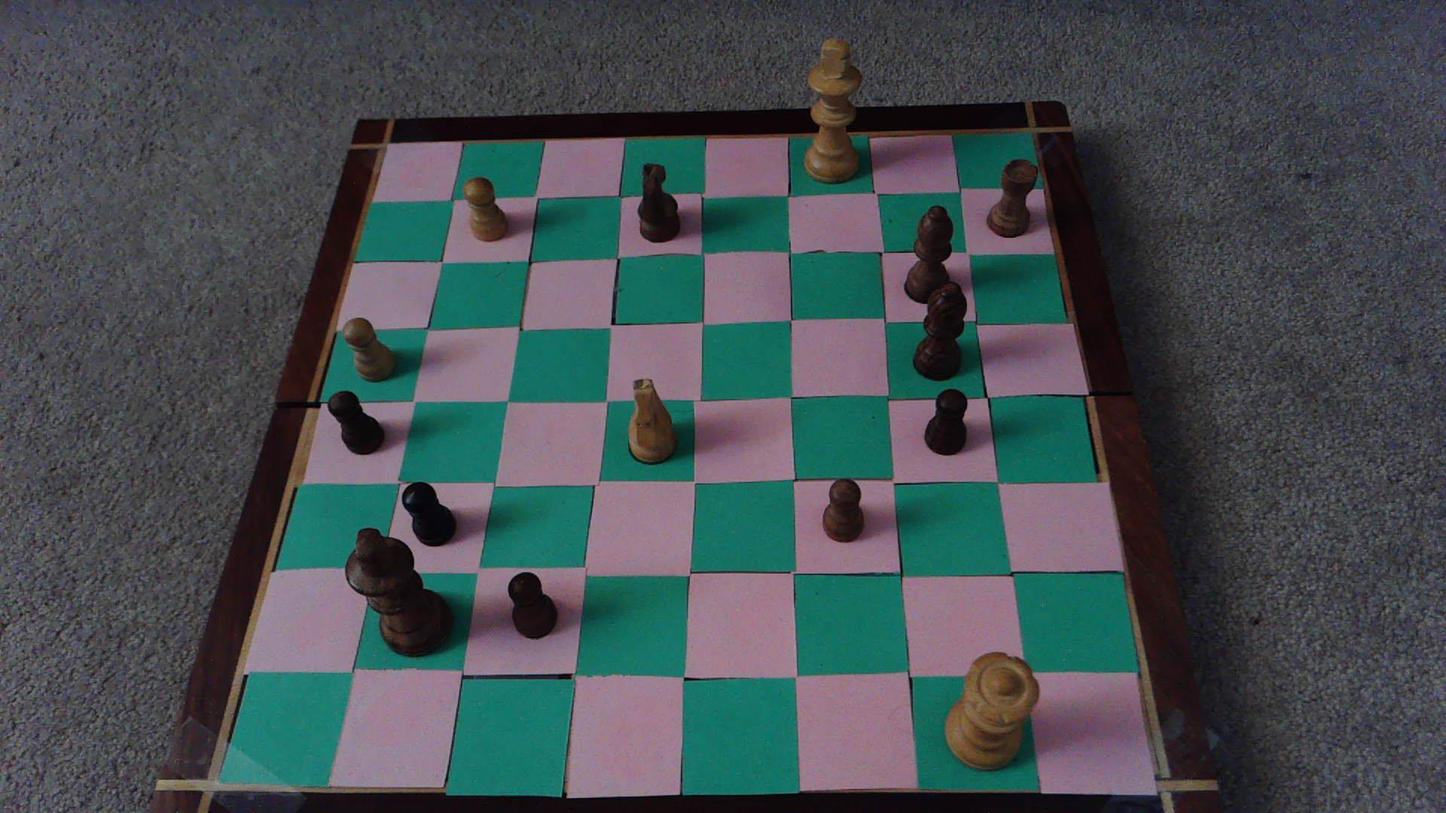dark_piece: (346, 528, 449, 656), (913, 282, 968, 380), (904, 204, 956, 302), (985, 158, 1039, 237), (636, 161, 681, 241), (328, 391, 383, 454), (402, 483, 455, 546), (508, 572, 557, 638), (925, 389, 966, 453), (822, 479, 863, 541)
white_piece: (946, 653, 1039, 769), (803, 38, 862, 184), (627, 378, 677, 463), (341, 318, 393, 381), (464, 177, 507, 240)
